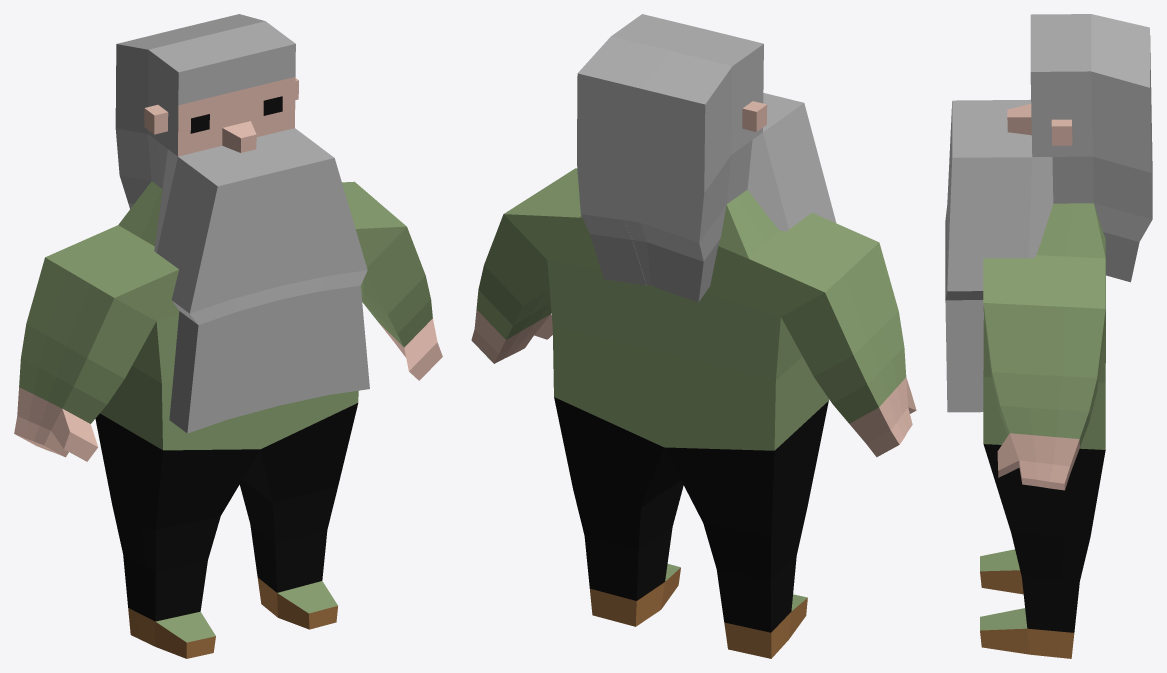
The model's file is Navigation.fbx.
3 renders of one model, left to right at view 1: azimuth 30°, elevation 25°; view 2: azimuth 150°, elevation 25°; view 3: azimuth 270°, elevation 25°, orthographic. The views are drawn at different scales.
Parts seen in each view (by area): view 1: Cube; view 2: Cube; view 3: Cube.
Part boxes in pixels (left/top/right/bottom): Cube: left=14, top=14, right=442, bottom=658; Cube: left=471, top=14, right=916, bottom=658; Cube: left=945, top=14, right=1152, bottom=658.
Size of the model in its own units: 137 by 182 by 59.29.
